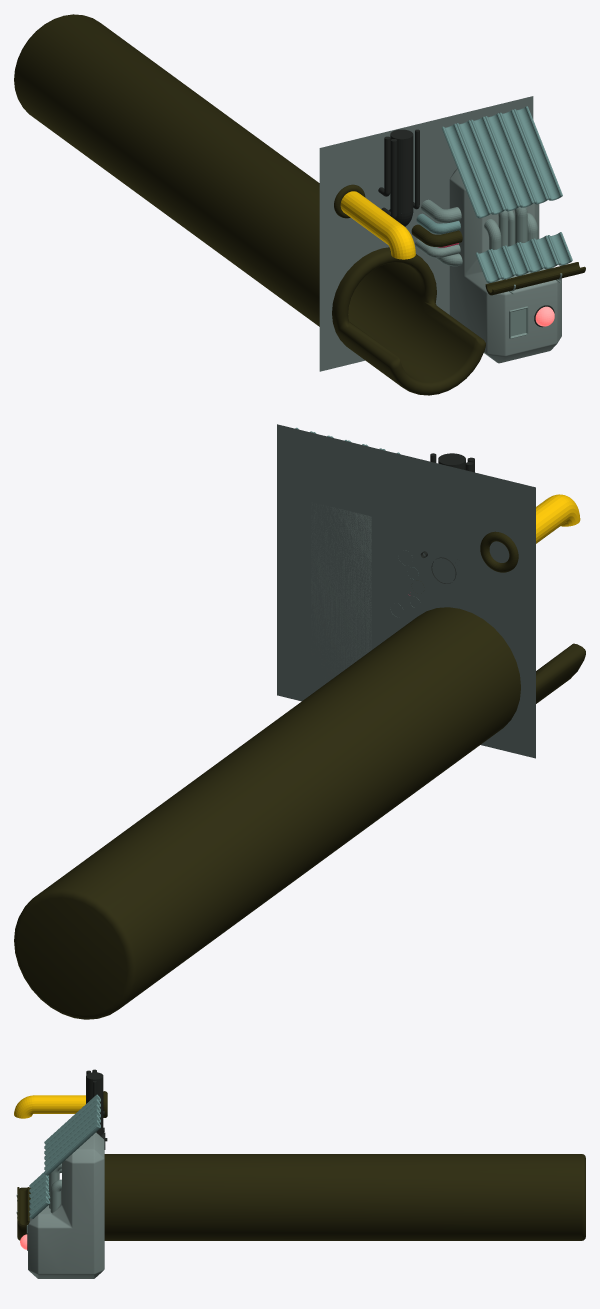
3 views of the same model, one above another, from view 1: azimuth 30°, elevation 25°; view 2: azimuth 150°, elevation 25°; view 3: azimuth 270°, elevation 25° (orthographic). The views are drawn at different scales.
Visible parts, largest first — view 1: Cube.164; view 2: Cube.164; view 3: Cube.164.
Boxes of the visible parts, left/top/right/bottom form: Cube.164: left=14, top=14, right=585, bottom=395; Cube.164: left=14, top=424, right=585, bottom=1019; Cube.164: left=14, top=1069, right=585, bottom=1278.
Bounding box in the file's own units: 100 × 100 × 308.
